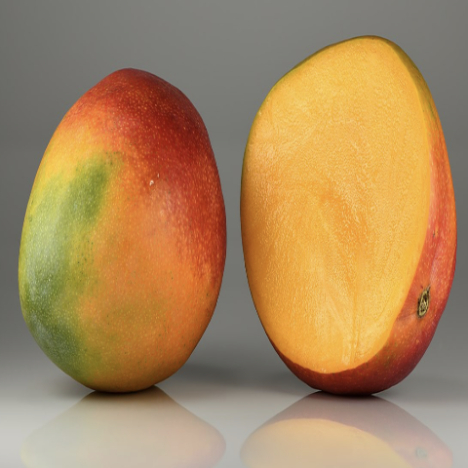mango: (236, 18, 462, 434), (13, 63, 232, 428)
